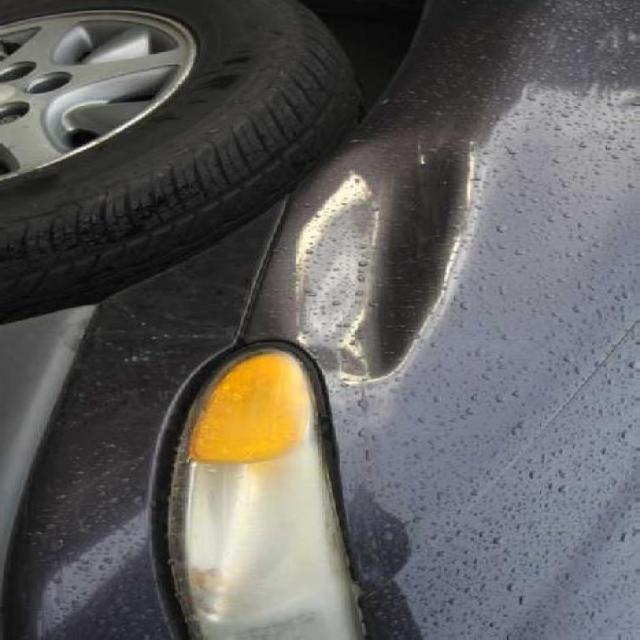dent: (207, 94, 514, 428)
